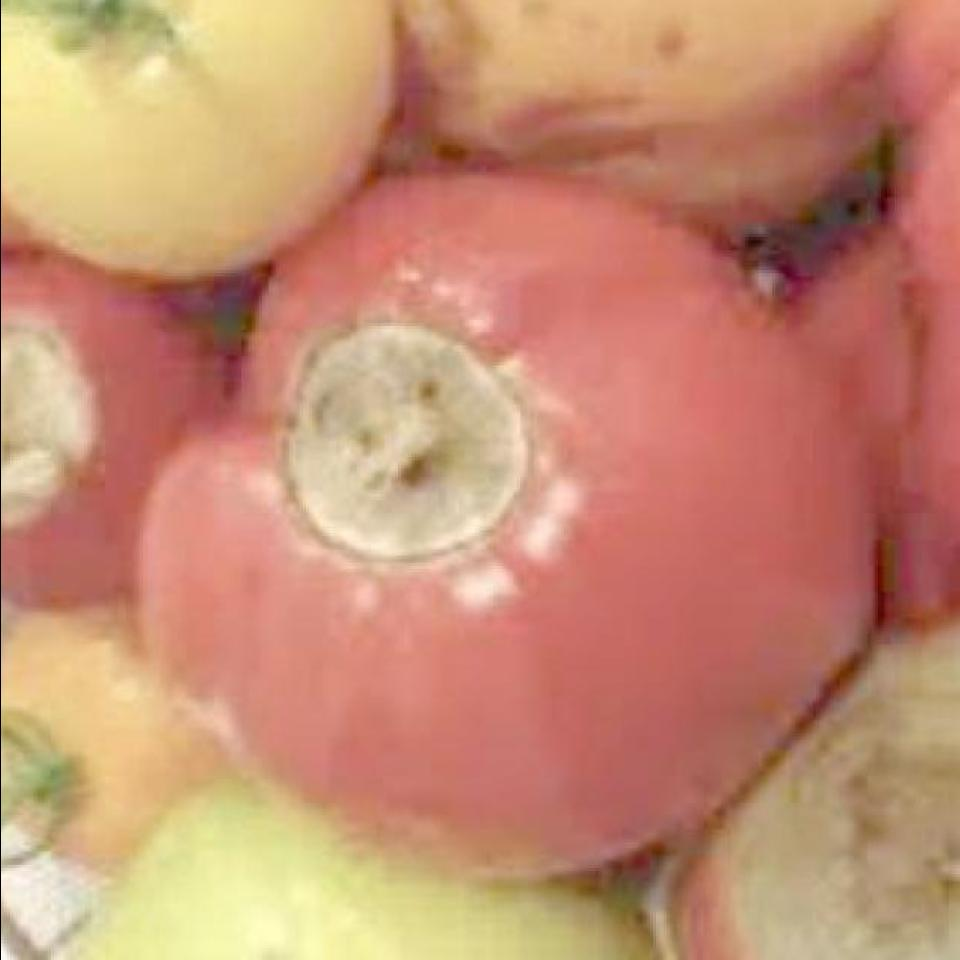Blossom_end_rot: (247, 323, 553, 595), (734, 661, 958, 960), (0, 304, 90, 564)
